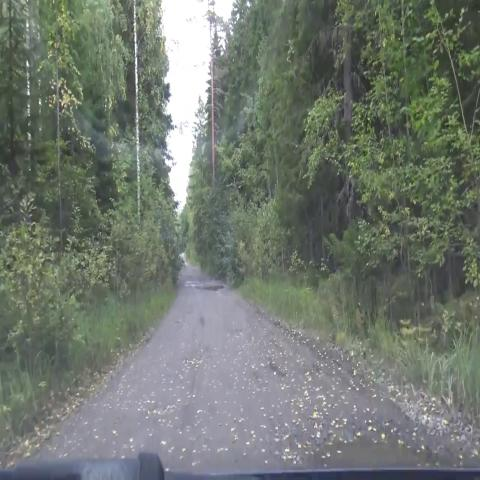pothole: (288, 411, 441, 471), (262, 353, 294, 393), (191, 280, 231, 298)
